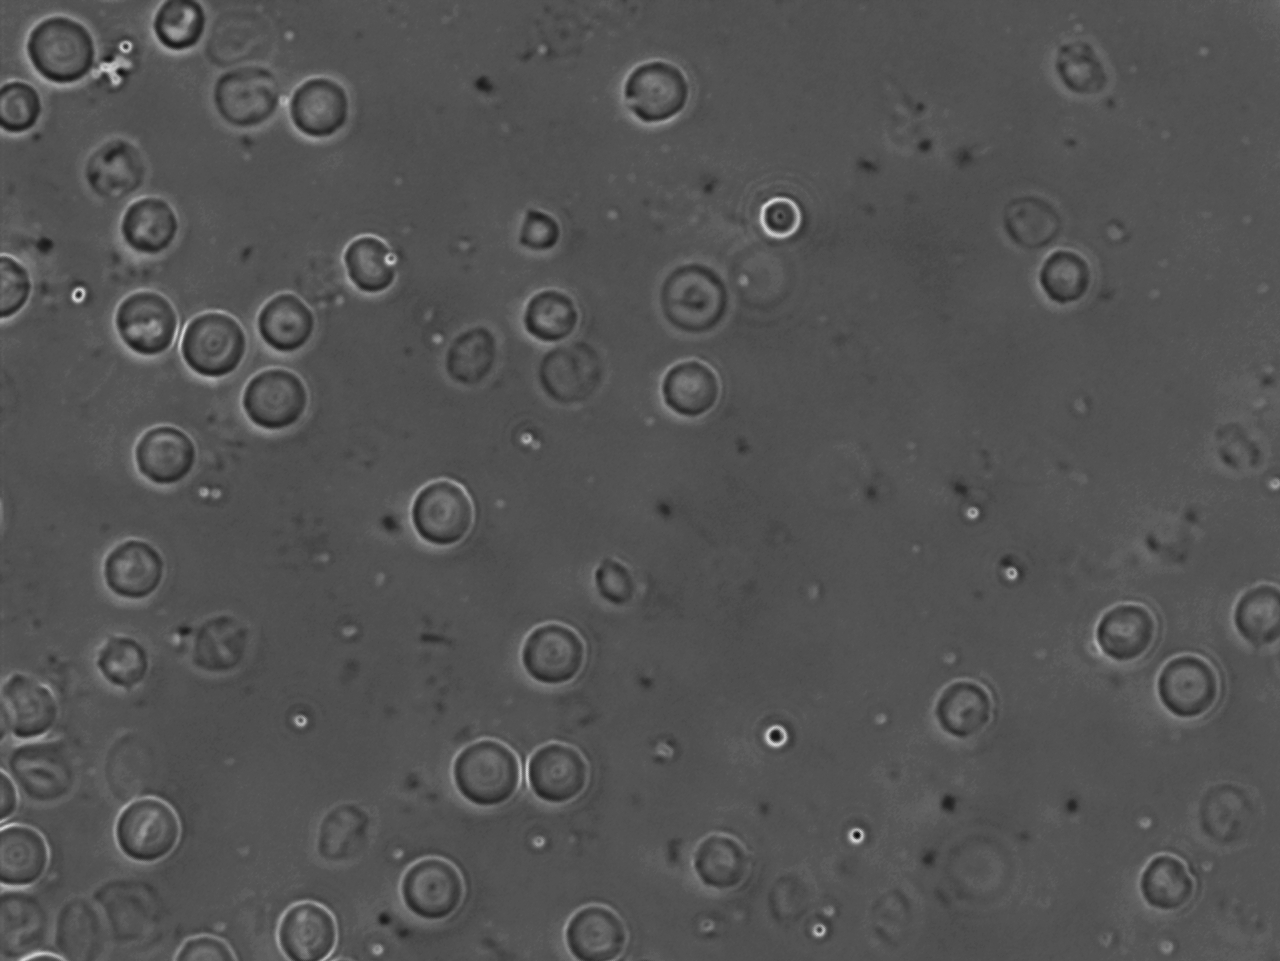depth:0: (12, 2, 110, 103), (438, 723, 535, 821), (158, 286, 250, 386), (103, 269, 197, 363), (399, 471, 495, 562), (509, 603, 599, 700), (387, 840, 482, 931), (515, 727, 608, 818), (122, 410, 212, 502), (616, 46, 706, 137), (228, 356, 319, 445), (278, 61, 366, 150), (1079, 585, 1165, 676), (263, 886, 367, 961), (107, 779, 196, 866), (1143, 647, 1235, 731), (678, 819, 765, 905), (88, 523, 182, 603), (923, 667, 1010, 752), (1026, 242, 1116, 323), (539, 886, 636, 961), (649, 350, 737, 432), (325, 223, 409, 308), (111, 181, 192, 269), (242, 279, 326, 361), (512, 282, 592, 357), (1226, 566, 1280, 657)
